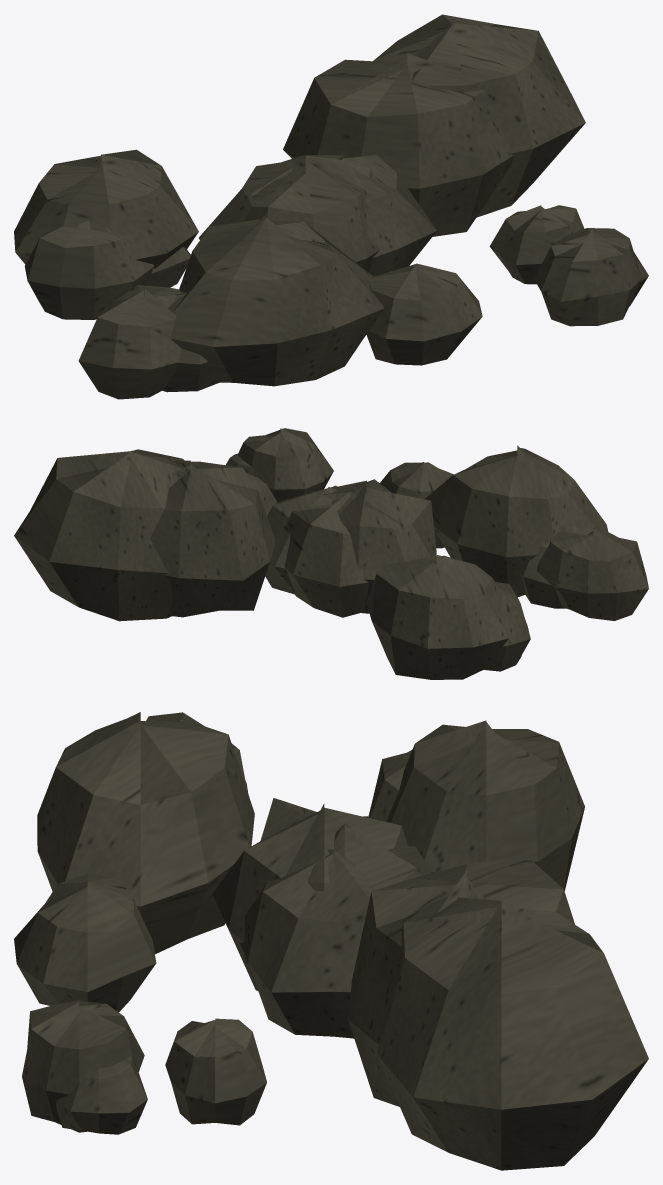
File: PROP-43CEDB2E4D55_lod1.glb
3 renders of one model, top to bottom at view 1: azimuth 30°, elevation 25°; view 2: azimuth 150°, elevation 25°; view 3: azimuth 270°, elevation 25°, orthographic. The views are drawn at different scales.
Visible parts, largest first — view 1: rock.009; view 2: rock.009; view 3: rock.009.
Boxes of the visible parts, left/top/right/bottom form: rock.009: left=14, top=14, right=648, bottom=399; rock.009: left=14, top=428, right=648, bottom=679; rock.009: left=14, top=712, right=648, bottom=1170.
Size of the model in its own units: 1.64 by 0.4235 by 1.11.
Materials: 1 (1 with a texture image).
